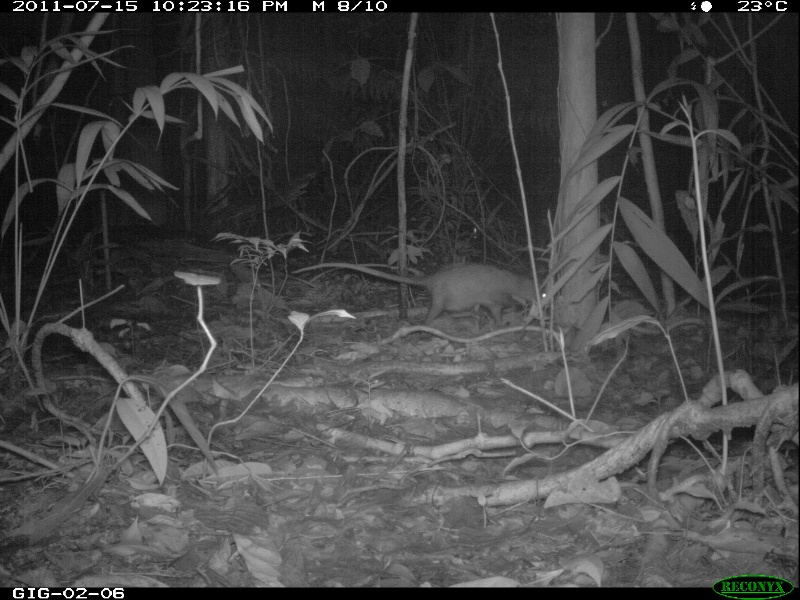opossum: (290, 258, 557, 318)
